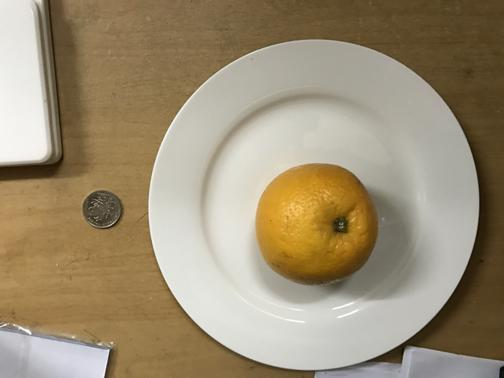coin: (78, 189, 122, 227)
orange: (253, 161, 379, 282)
